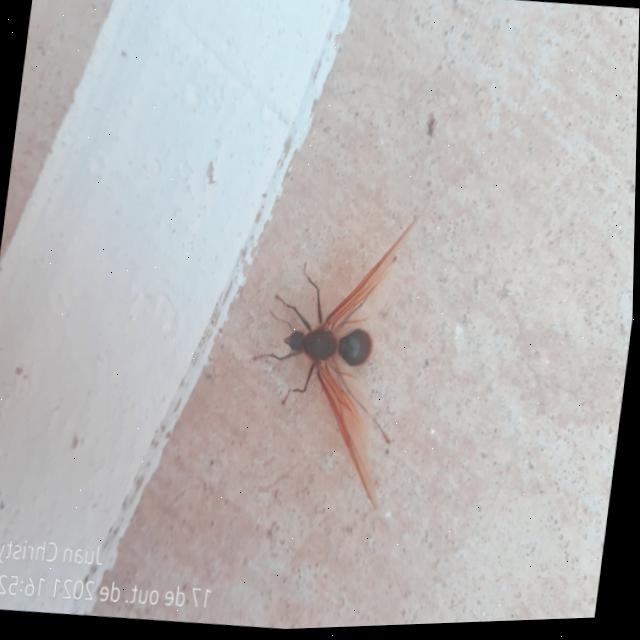Alive-Male-Alate: (236, 195, 426, 520)
